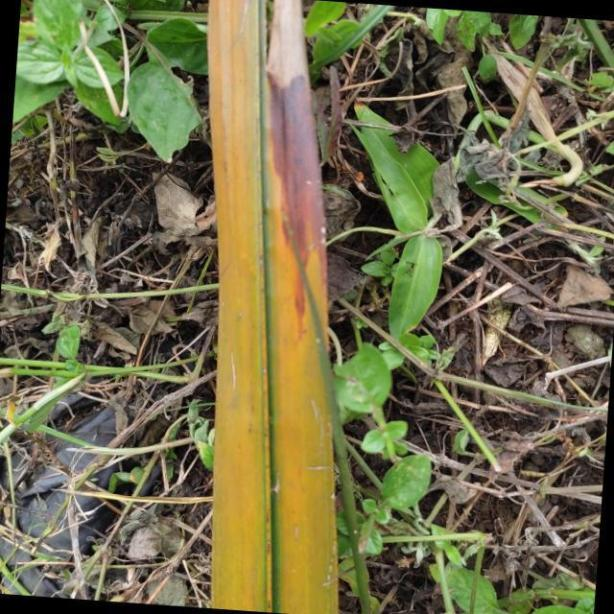Megnesium: (206, 0, 341, 614)
